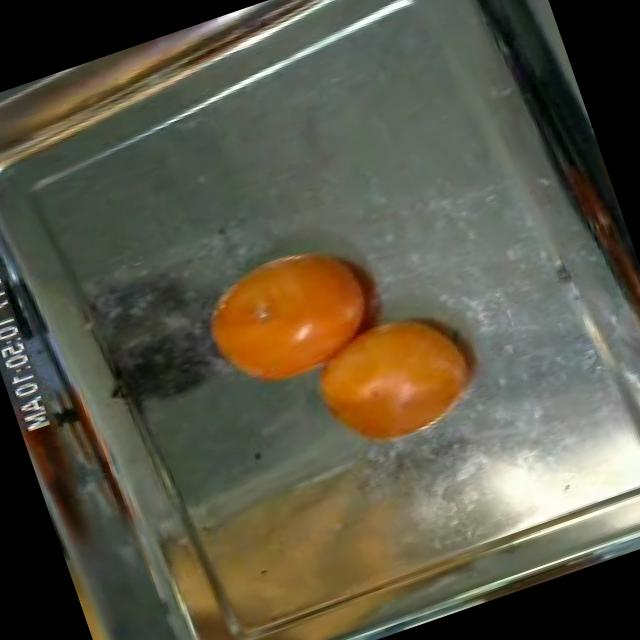Fruit: (174, 213, 404, 419), (280, 279, 508, 473)
